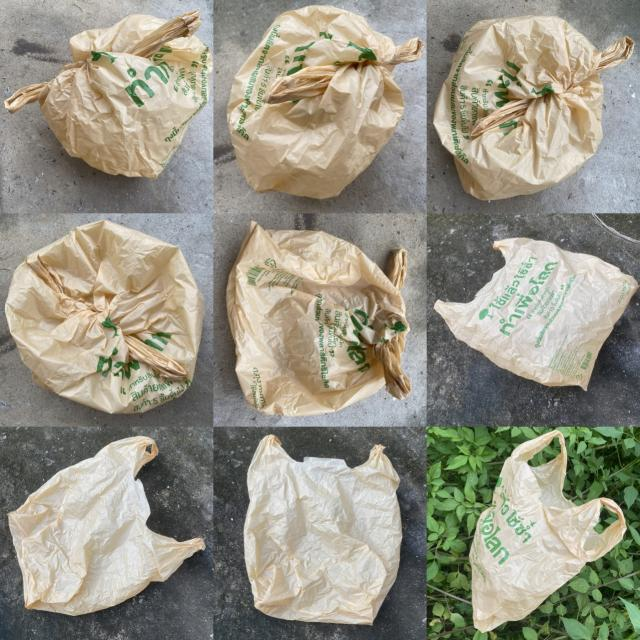Single-layer Plastic: (5, 220, 204, 412), (228, 6, 424, 199), (434, 15, 634, 200), (226, 222, 411, 416), (9, 436, 205, 616), (5, 11, 212, 178), (470, 430, 626, 632), (435, 238, 638, 389), (244, 435, 402, 624)
